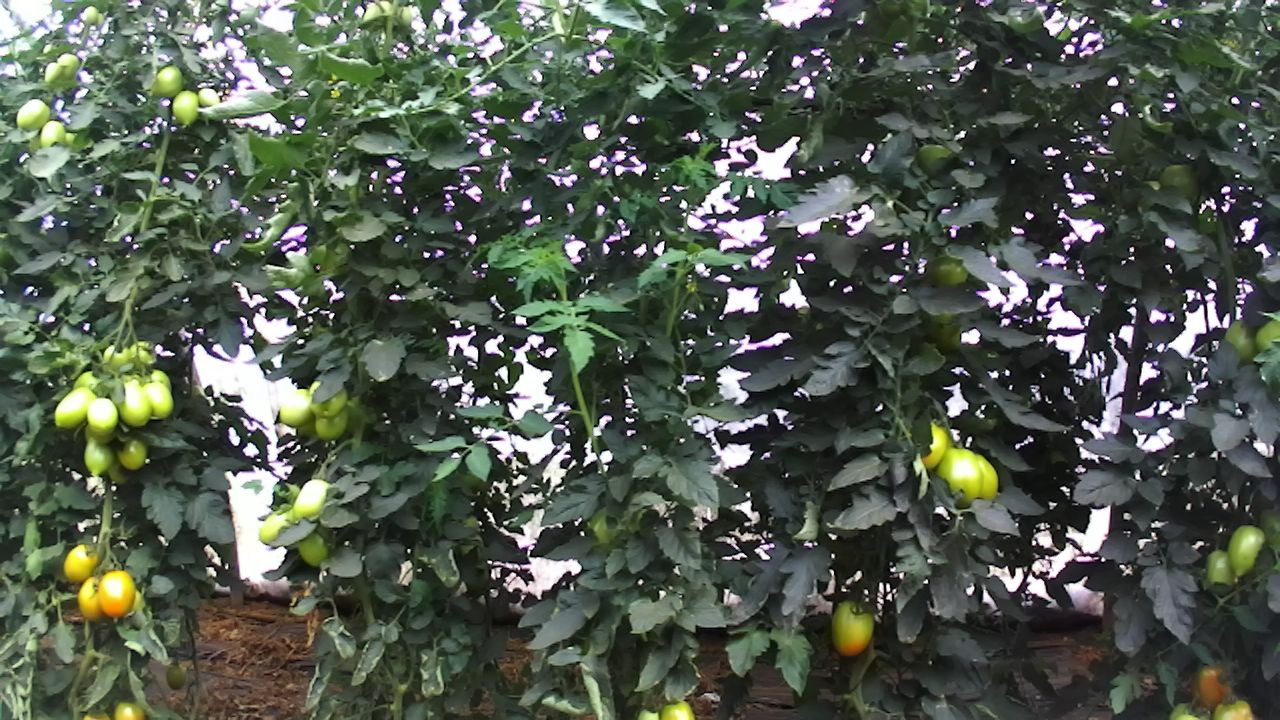tomato: (931, 444, 984, 513), (829, 596, 875, 659), (1224, 521, 1267, 582), (1188, 662, 1235, 714), (95, 567, 136, 623), (110, 377, 153, 430), (53, 384, 98, 431), (74, 573, 111, 623), (312, 397, 352, 442), (277, 385, 314, 428), (62, 542, 99, 584), (79, 435, 115, 478), (84, 395, 119, 438), (116, 432, 151, 474), (13, 96, 51, 132), (141, 380, 175, 420), (151, 63, 185, 100), (170, 88, 200, 127), (656, 699, 698, 720), (38, 118, 65, 149), (164, 663, 188, 690), (195, 85, 221, 108), (42, 60, 65, 84)
